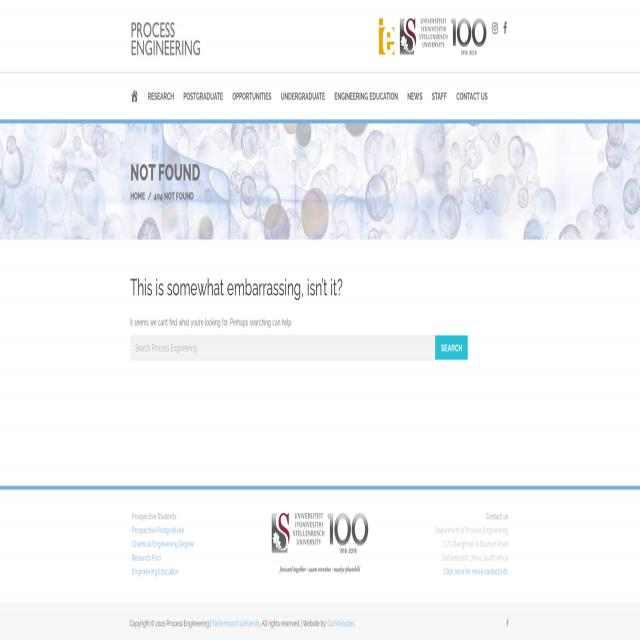button: (270, 510, 370, 577), (130, 15, 216, 58), (399, 16, 488, 56), (330, 87, 402, 106), (277, 88, 330, 107), (178, 87, 228, 106), (228, 88, 276, 107), (435, 336, 468, 360), (452, 87, 492, 106), (378, 16, 396, 56), (143, 87, 179, 106), (403, 87, 427, 106), (427, 87, 451, 106), (125, 87, 143, 106), (505, 615, 510, 632)
field: (130, 335, 434, 362)
